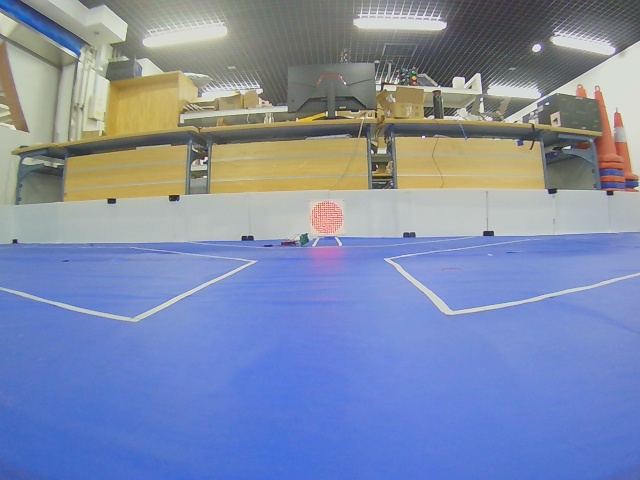red: (310, 200, 344, 236)
